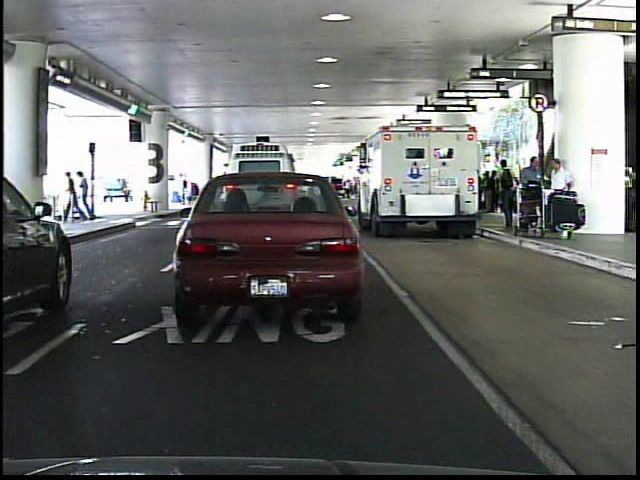person: (74, 167, 95, 223), (59, 167, 79, 223)
